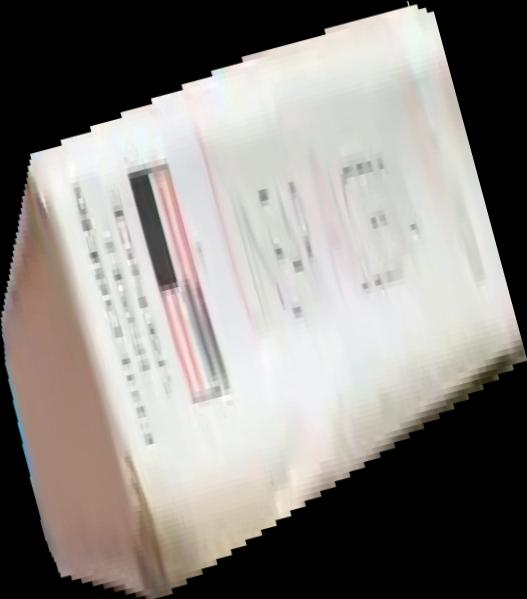flat: (1, 1, 527, 599)
